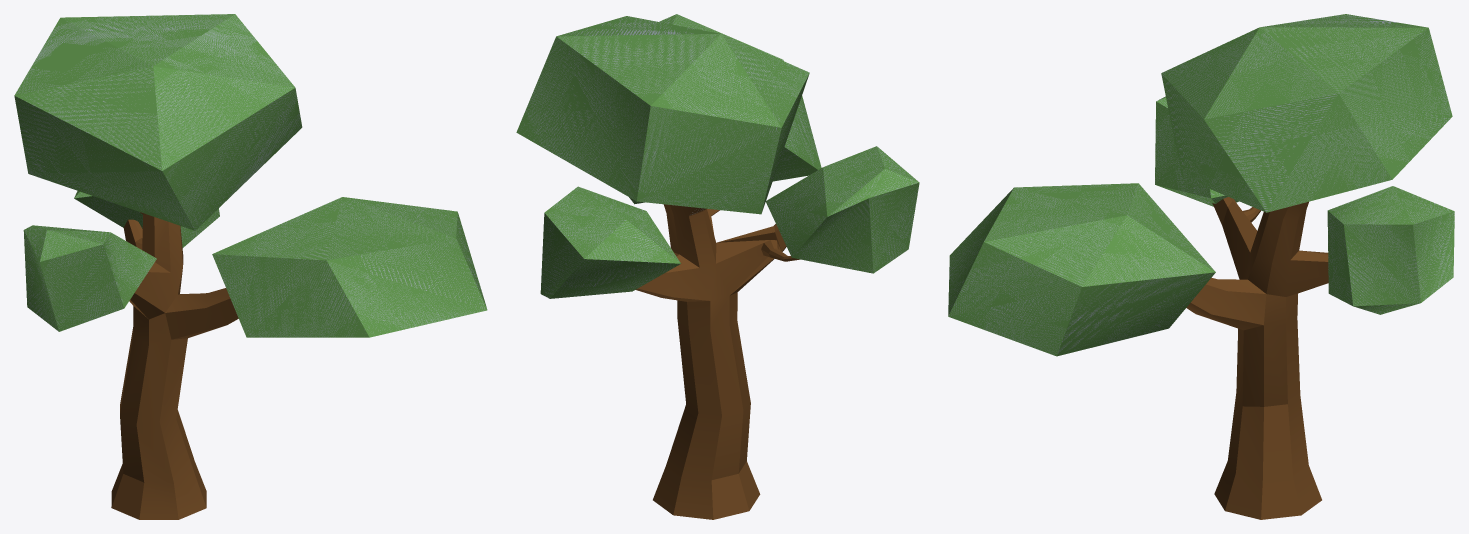
File: Tree_Asia_03.fbx
The picture shows the model from 3 angles, left to right: view 1: azimuth 30°, elevation 25°; view 2: azimuth 150°, elevation 25°; view 3: azimuth 270°, elevation 25°; orthographic projection. The views are drawn at different scales.
Visible parts, largest first — view 1: Model; view 2: Model; view 3: Model.
Part boxes in pixels (x1,y1,x2,y2): Model: (14,14,487,519); Model: (516,14,919,519); Model: (948,14,1454,519).
Bounding box in the file's own units: 412 × 464 × 459.
